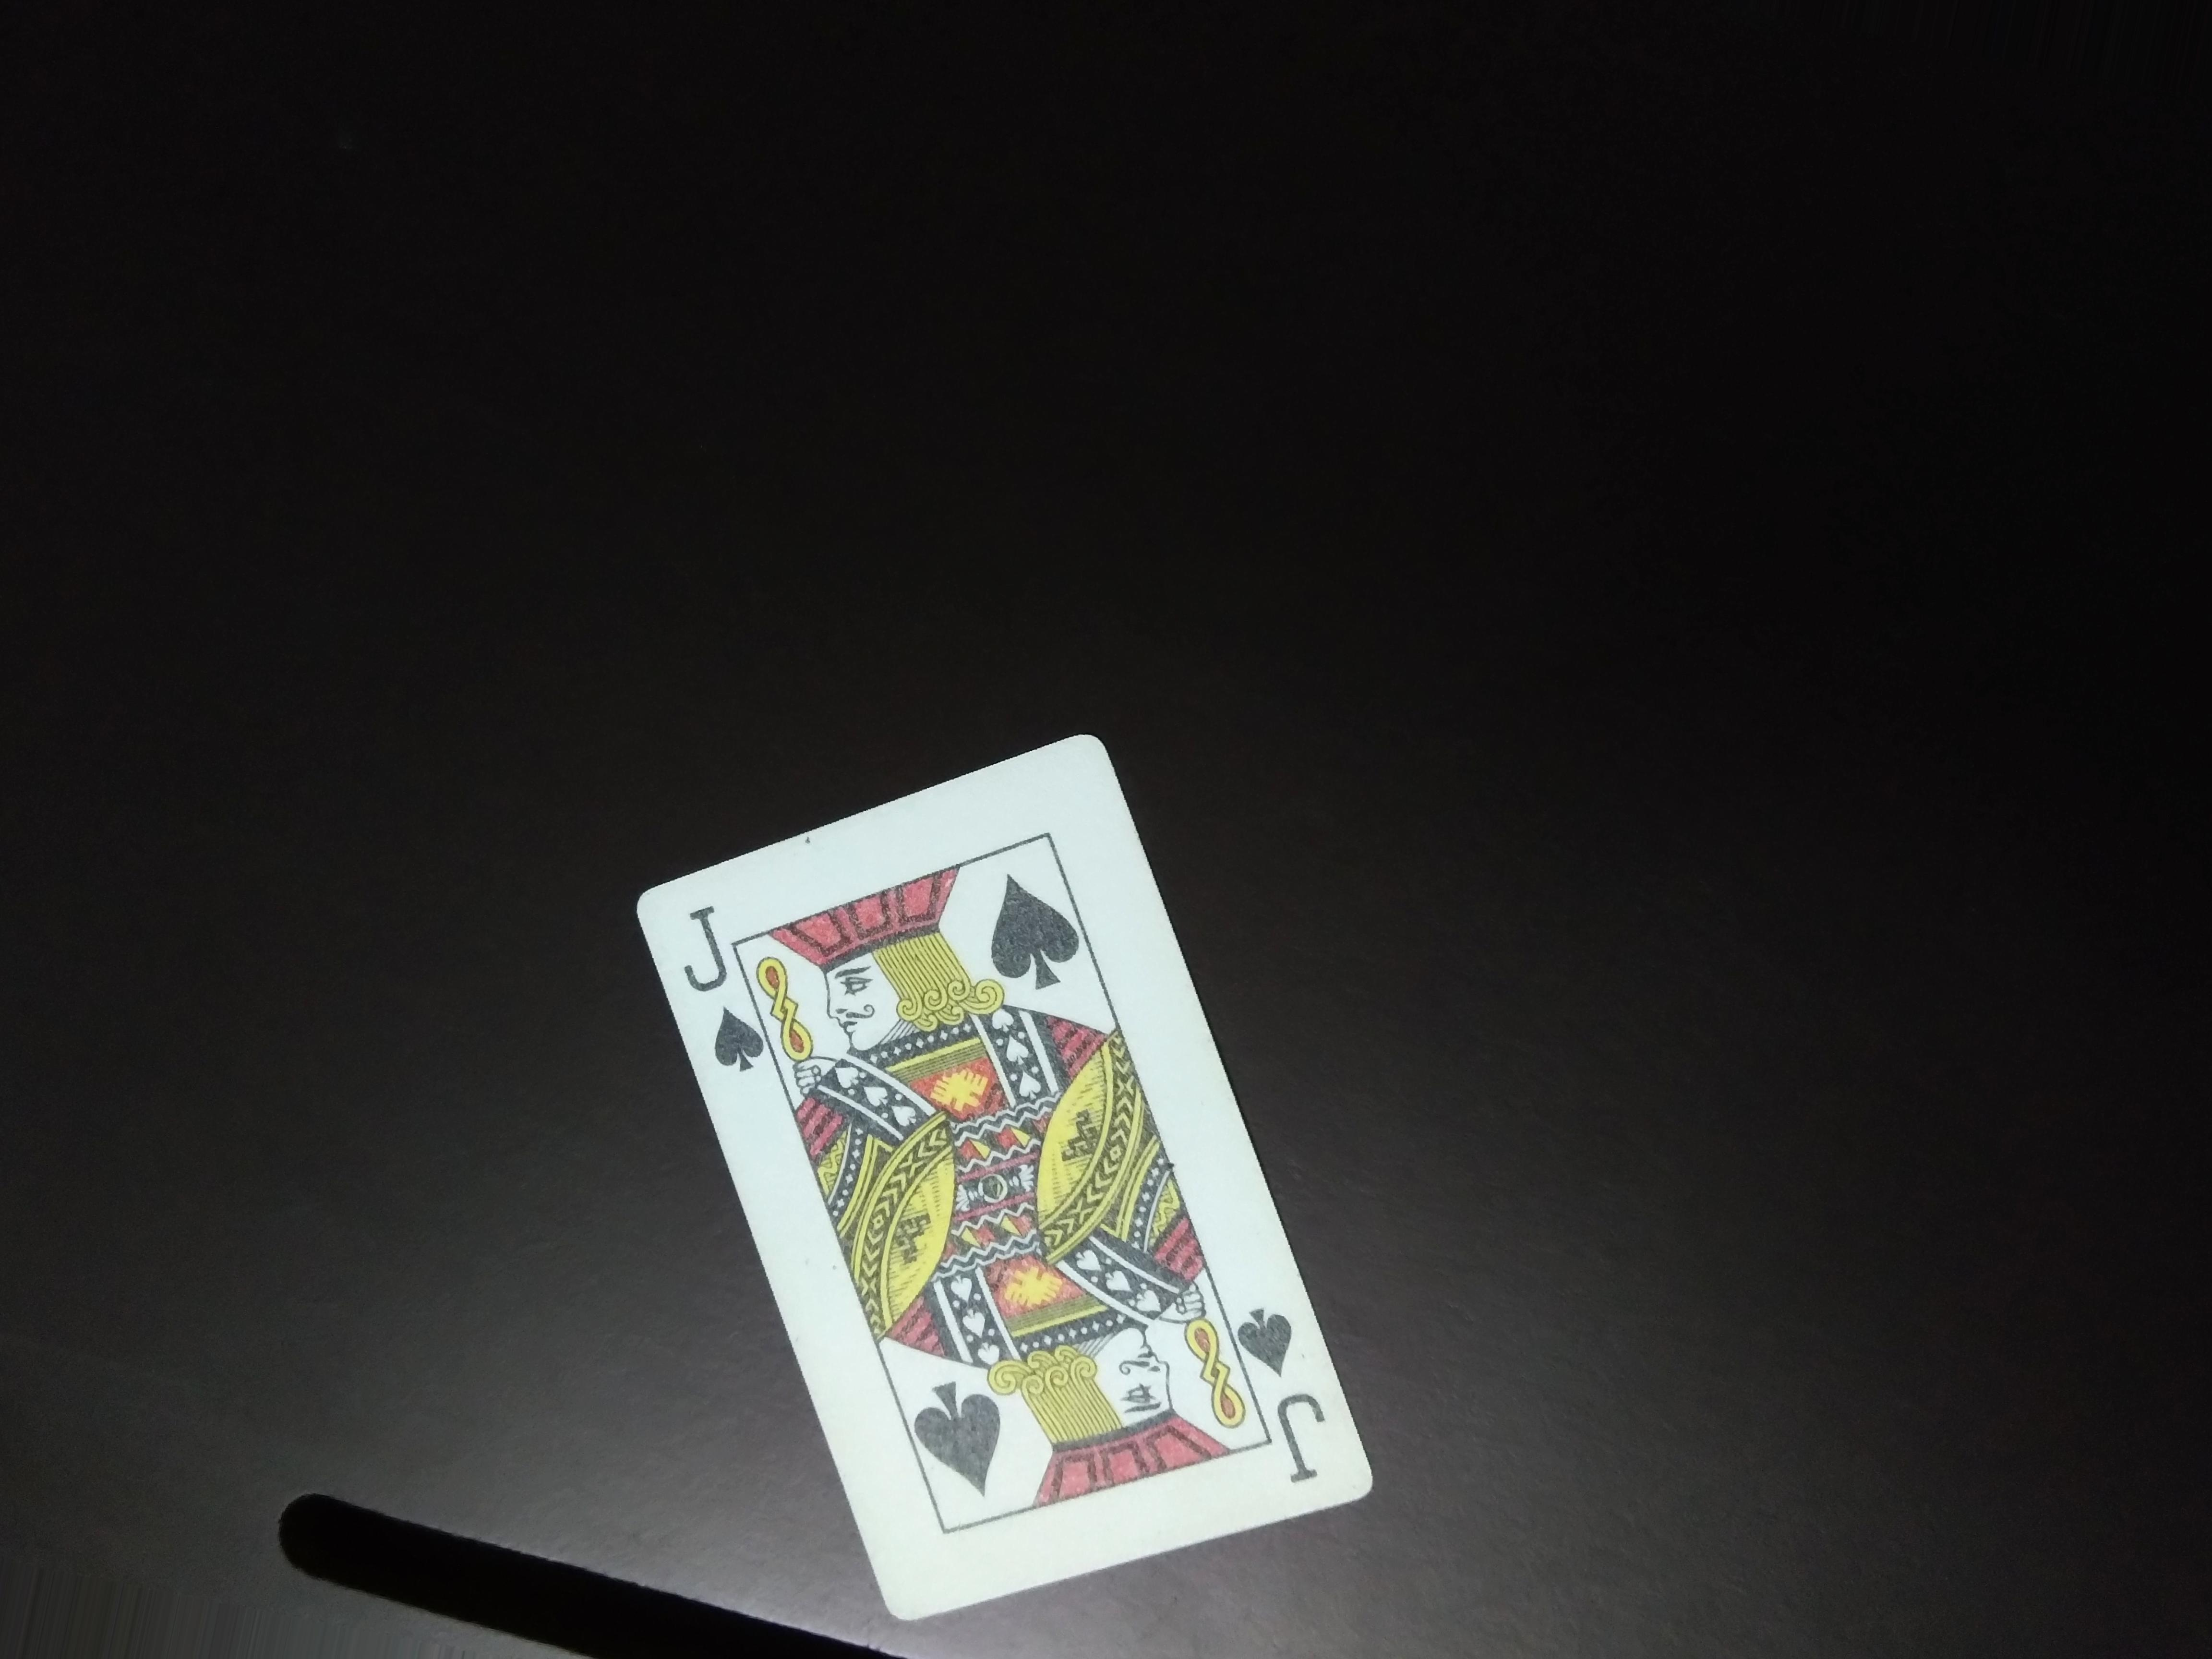JS: (669, 894, 761, 1077)
